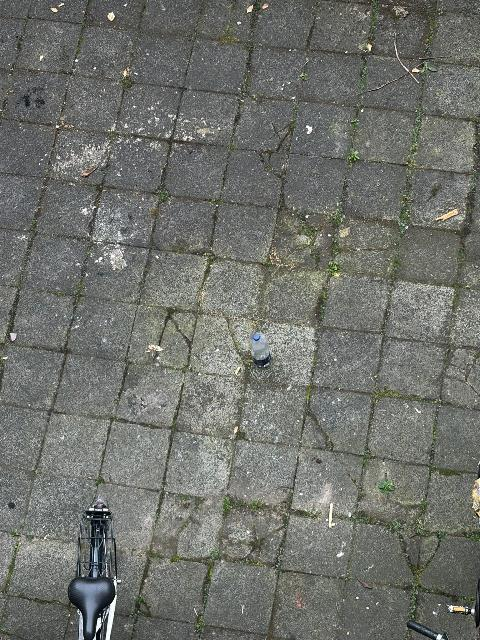plastic_bottle: (249, 334, 273, 369)
